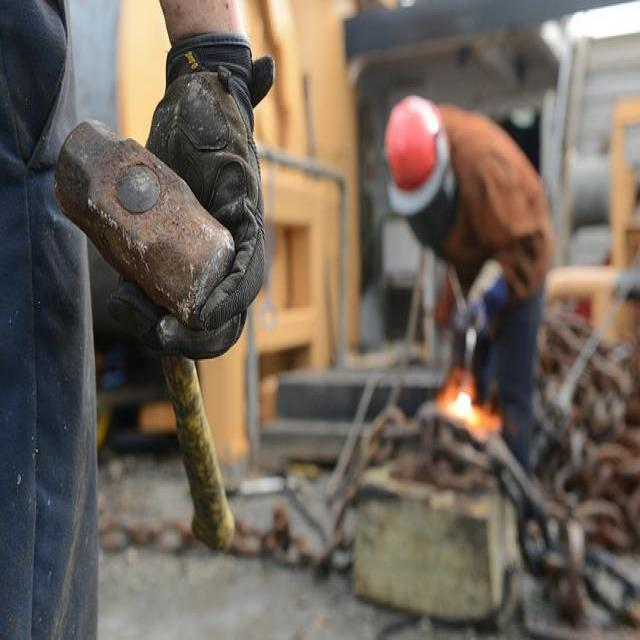Safety-Helmet: (377, 86, 454, 218)
